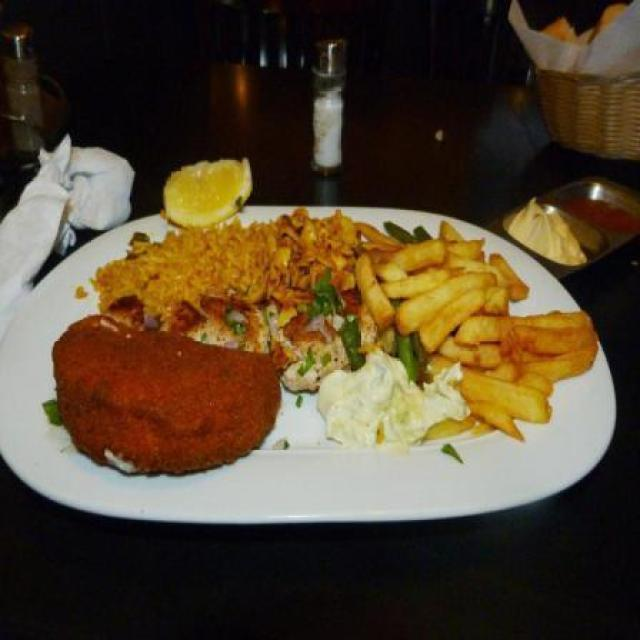French Fries: (329, 227, 571, 422)
